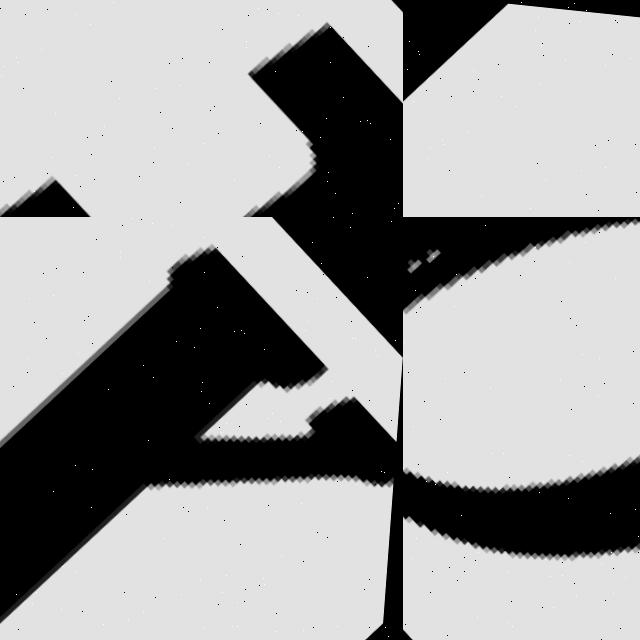0: (403, 217, 640, 640)
T: (0, 0, 403, 217)
V: (403, 0, 640, 217)
X: (0, 217, 403, 640)
